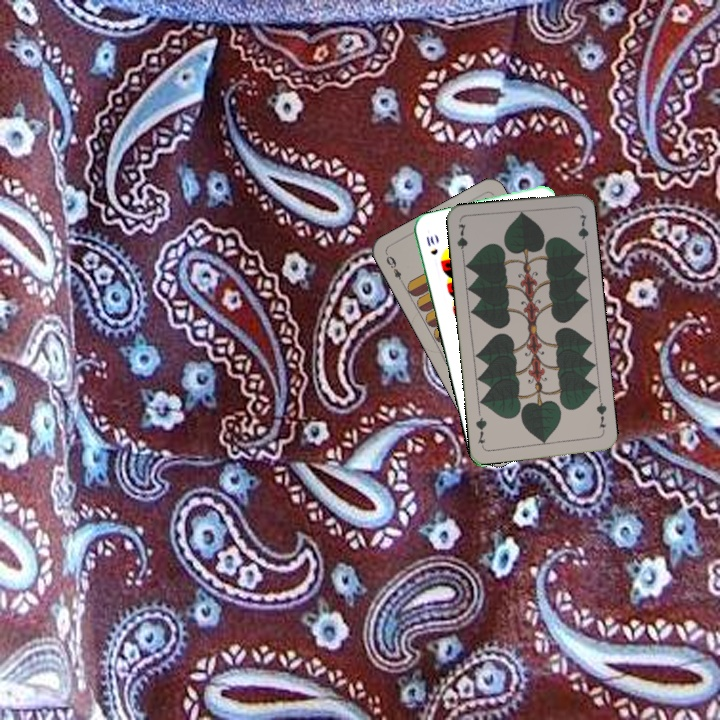E9: (382, 250, 407, 287)
G7: (592, 395, 609, 436), (453, 220, 470, 260)
S10: (422, 232, 440, 258)
